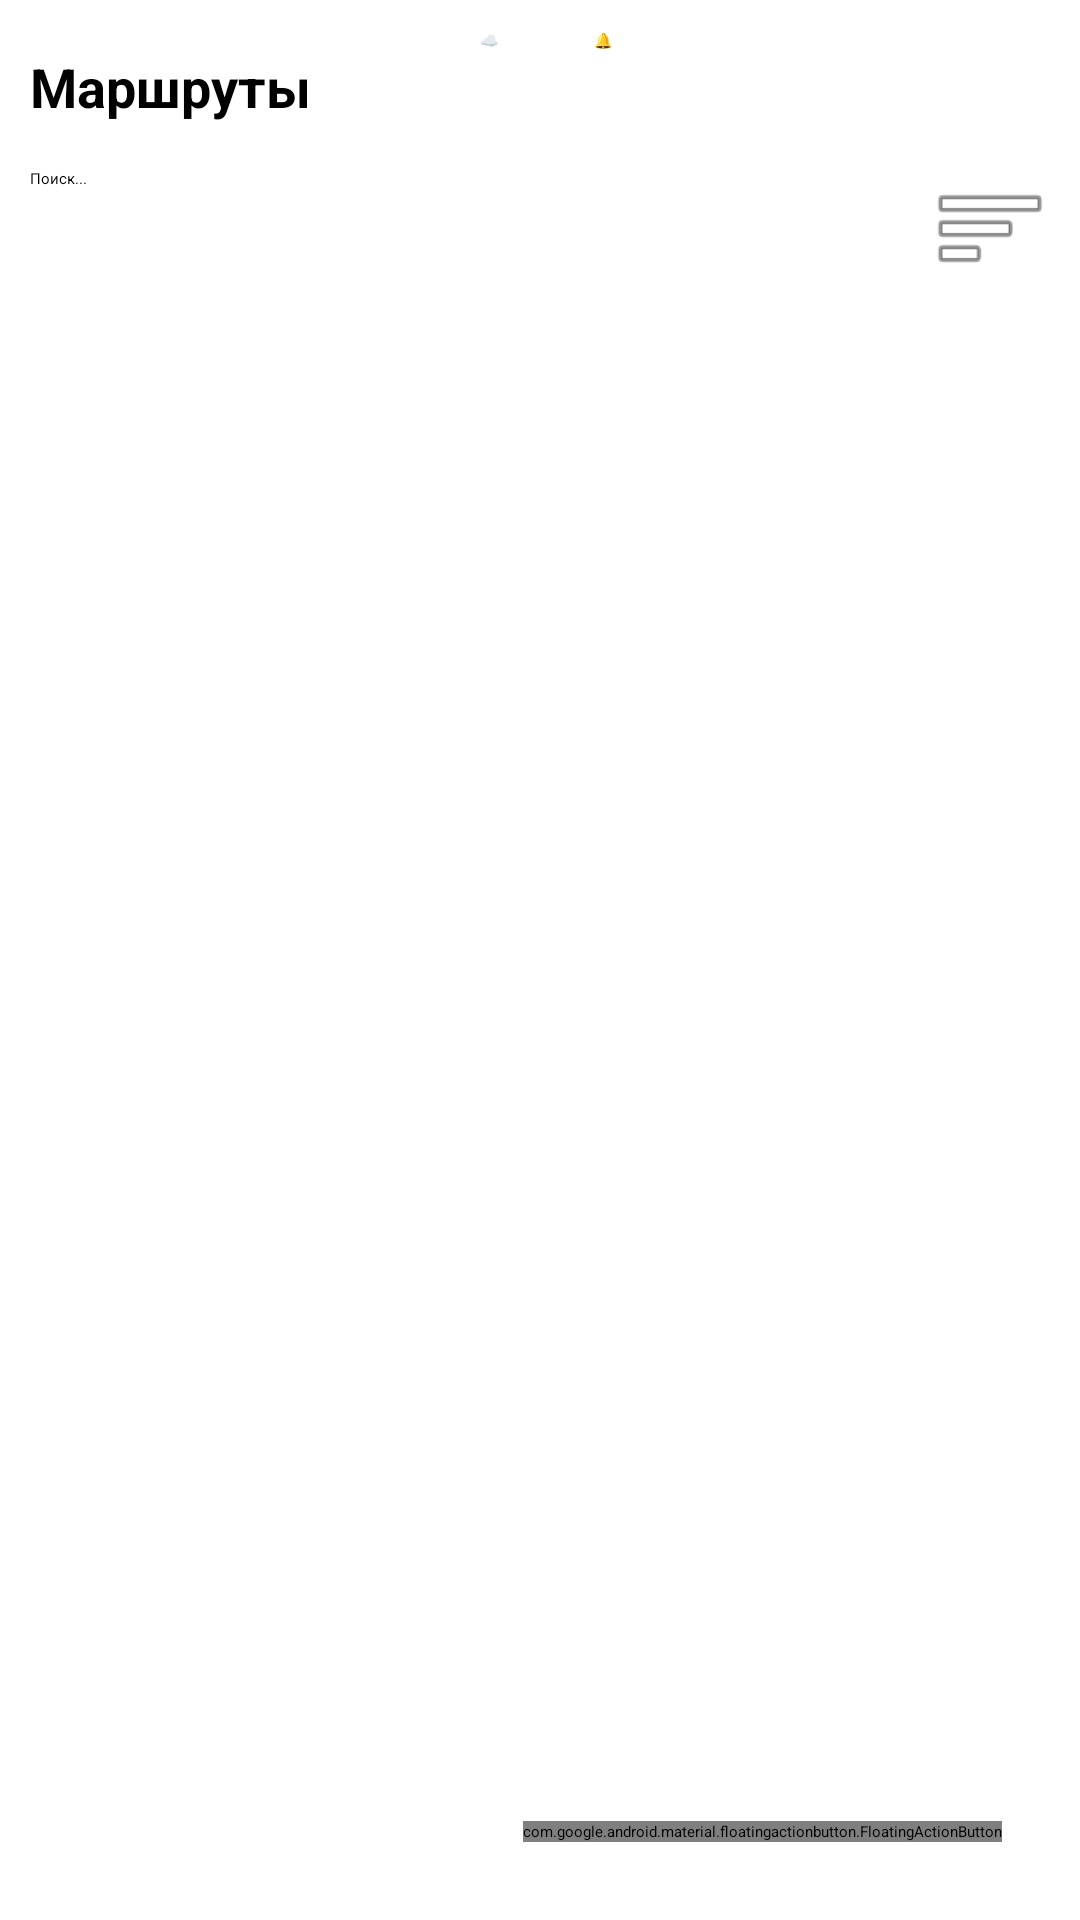

Icons on this 1080 × 1920 Android screen, each with the point to tap as (x,y):
sort by size: (990,228)
